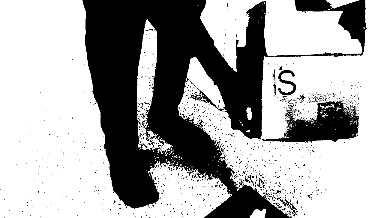S: (273, 67, 297, 97)
